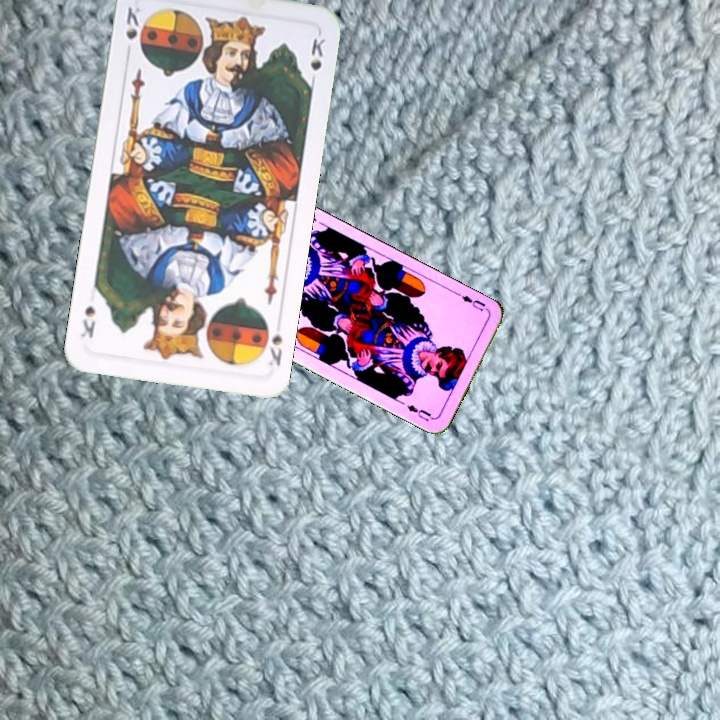EU: (457, 291, 488, 314)
SK: (121, 3, 143, 59), (264, 330, 285, 369)
